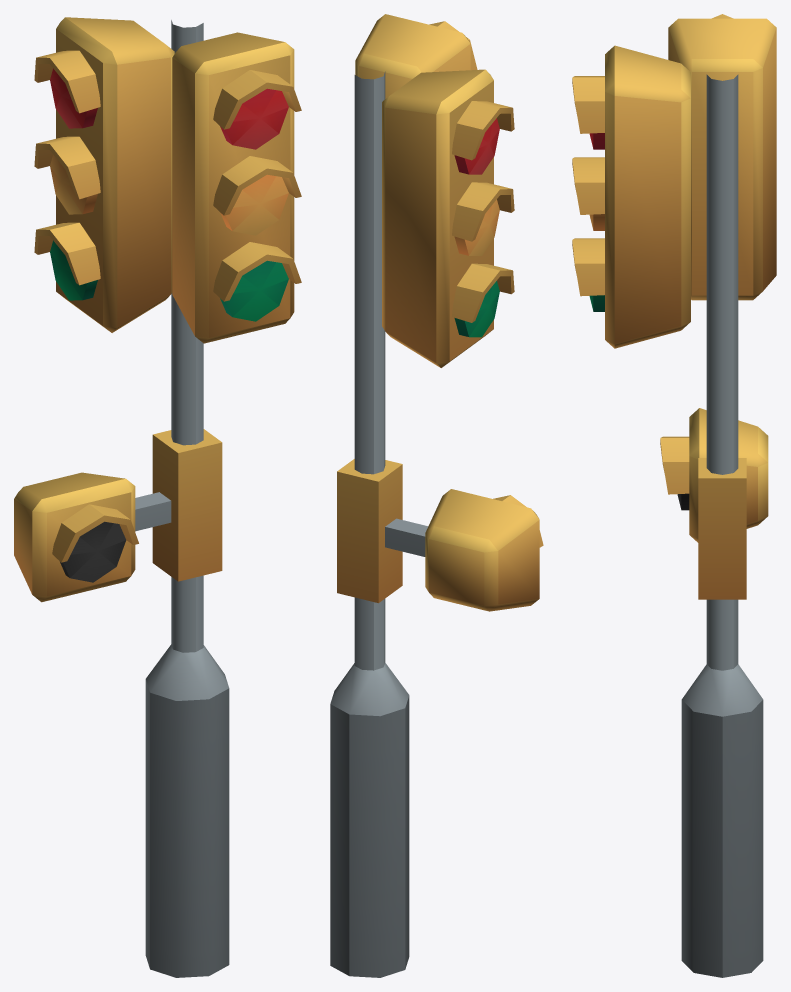
Rendered from Traffic light-Q6k7Izx6YD.glb.
The picture shows the model from 3 angles, left to right: view 1: azimuth 30°, elevation 25°; view 2: azimuth 150°, elevation 25°; view 3: azimuth 270°, elevation 25°; orthographic projection. The views are drawn at different scales.
Visible parts, largest first — view 1: trafficlight_A; view 2: trafficlight_A; view 3: trafficlight_A.
Part boxes in pixels (x1=…): trafficlight_A: x1=14, y1=17, x2=301, y2=977; trafficlight_A: x1=330, y1=14, x2=543, y2=977; trafficlight_A: x1=572, y1=14, x2=776, y2=977.
Bounding box in the file's own units: 0.1744 × 0.7295 × 0.1506.
1 material, 1 textured.
